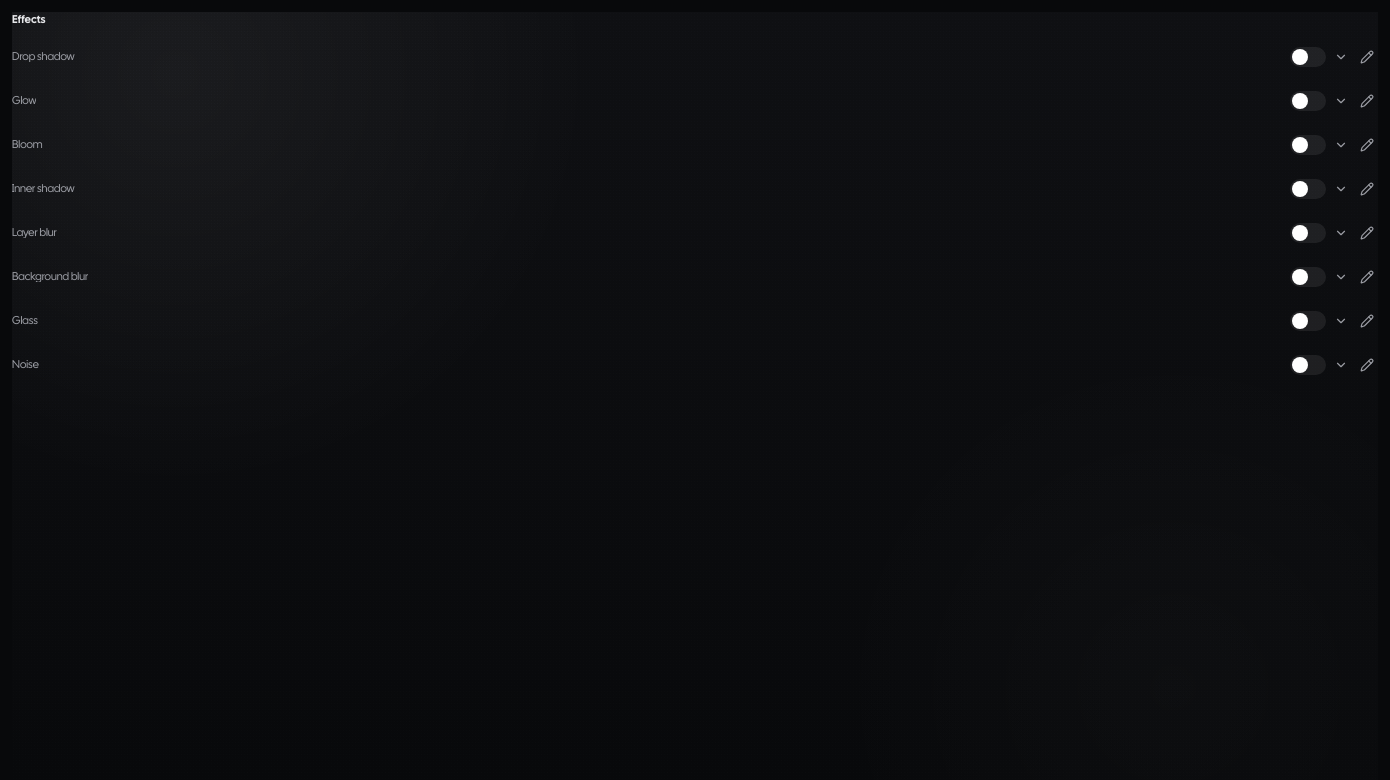
Test: Effects — chevron inline + modal sincronizados › o chevron expande inline os ajustes completos: os mesmos do modal
What coordinates should you click on to do the following:
click the button named "Expand Drop shadow settings"
I would click on:
 (1341, 56)
Its box is [1330,46,1352,68].
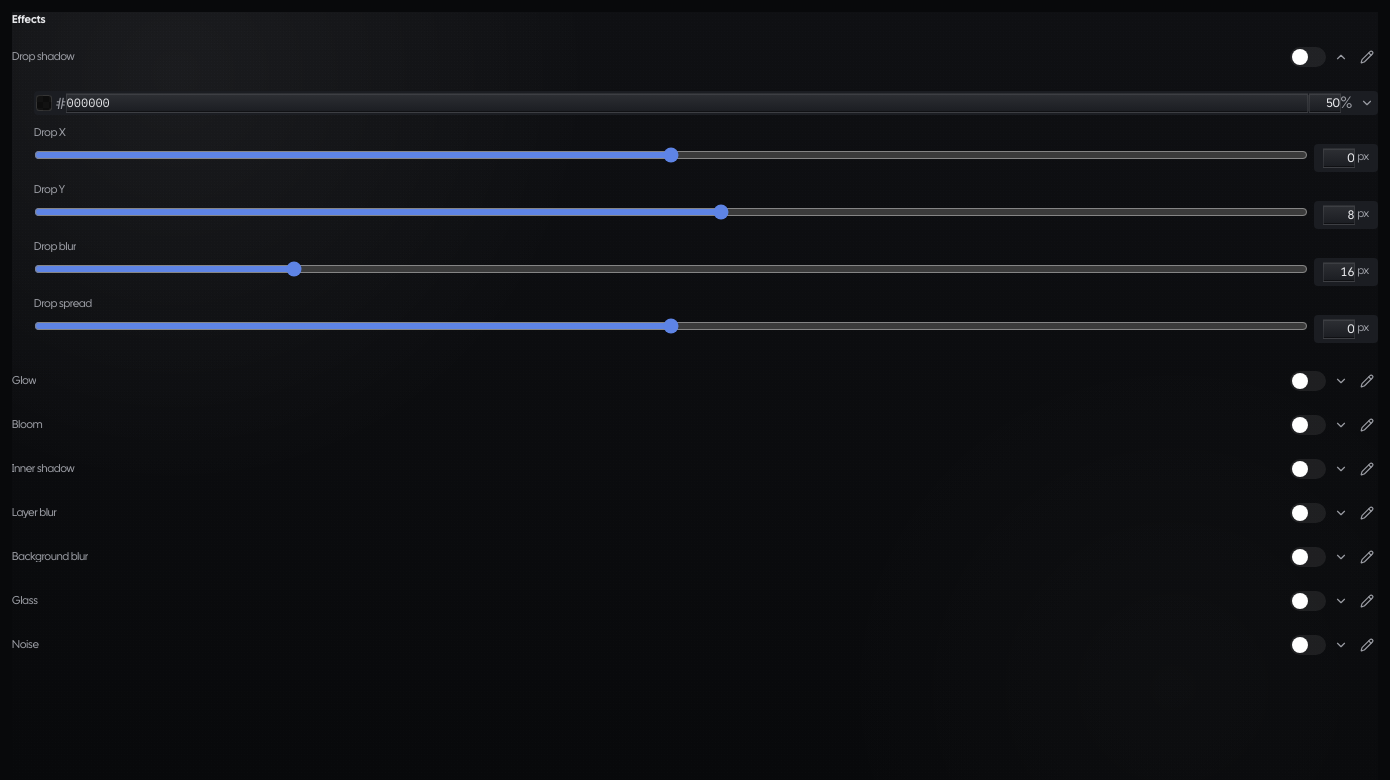
Check: the slider named "Drop X" is shown, box [34,146,1308,162]
Check: the slider named "Drop Y" is shown, box [34,204,1308,220]
Check: the slider named "Drop blur" is shown, box [34,260,1308,276]
